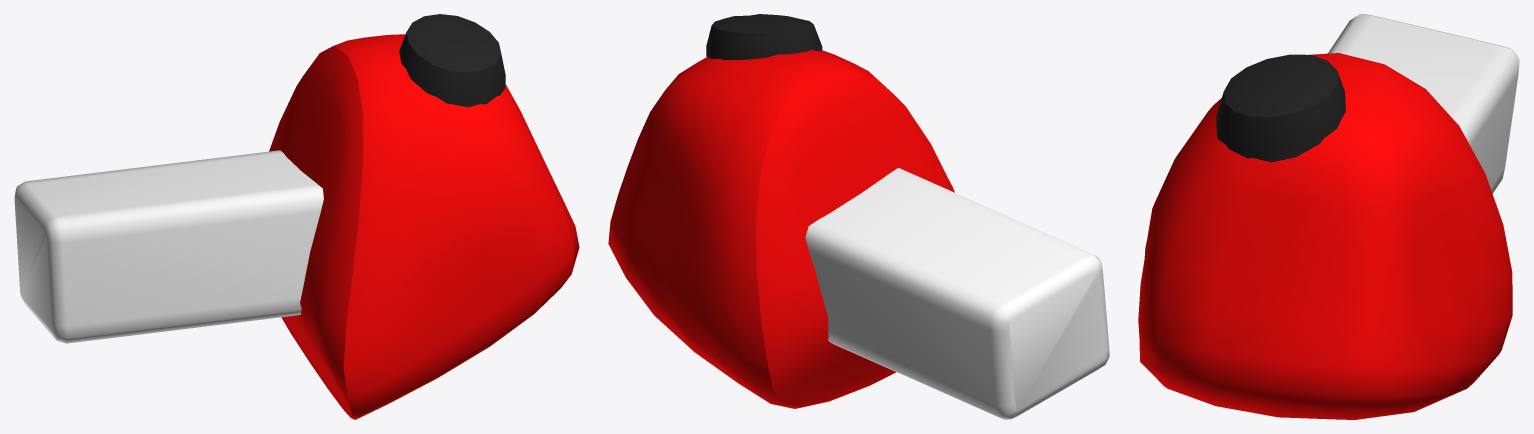
File: Rabbot_UpperArm.fbx
3 views of the same model, side by side, from view 1: azimuth 30°, elevation 25°; view 2: azimuth 150°, elevation 25°; view 3: azimuth 270°, elevation 25° (orthographic). The views are drawn at different scales.
Parts seen in each view (by area): view 1: Rabbot_UpperArm; view 2: Rabbot_UpperArm; view 3: Rabbot_UpperArm.
Part boxes in pixels (box(x1,y1,x2,y2)): Rabbot_UpperArm: box(14, 14, 579, 419); Rabbot_UpperArm: box(608, 14, 1109, 419); Rabbot_UpperArm: box(1138, 14, 1519, 419).
Size of the model in its own units: 23.66 by 15.49 by 13.61.
